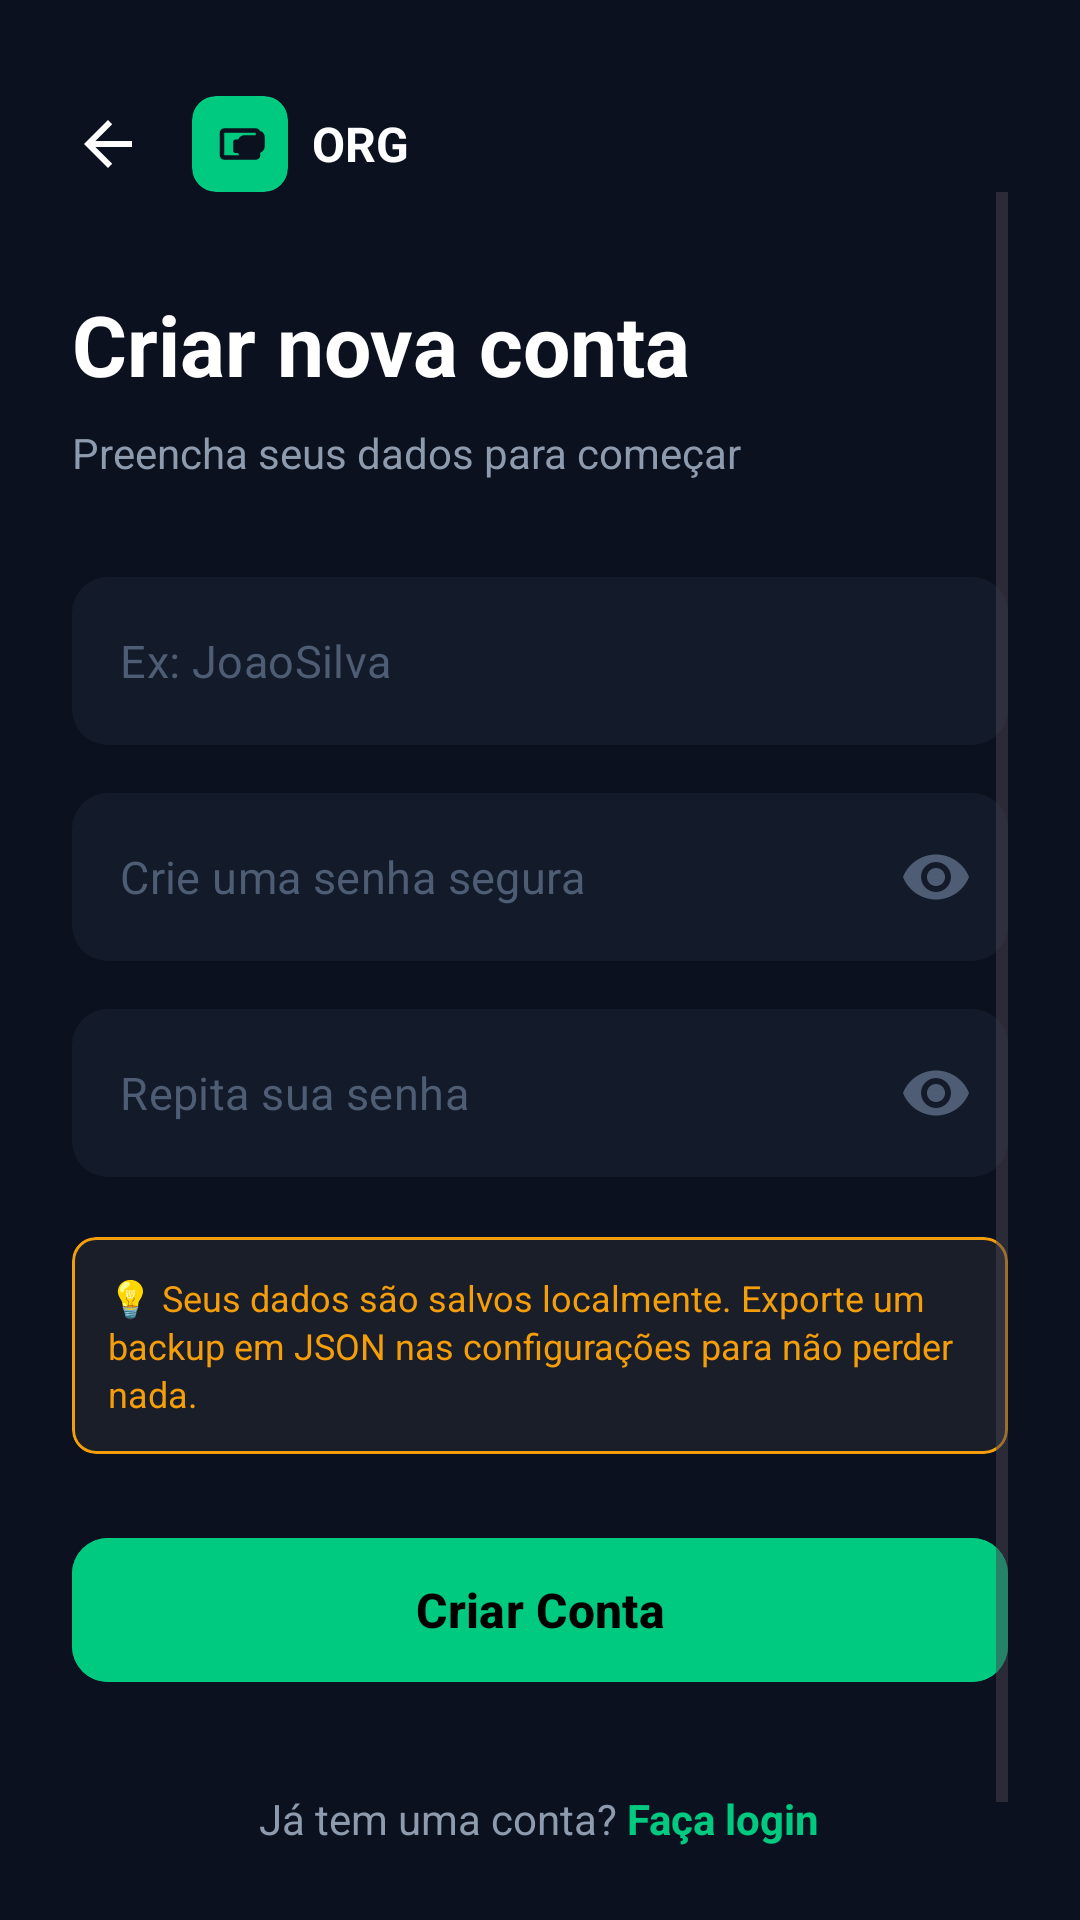

Point at icon controls on the screen. Image size 1080x1920, points as (x=x, y=y).
Carteira: (x=242, y=144)
Voltar: (x=108, y=144)
